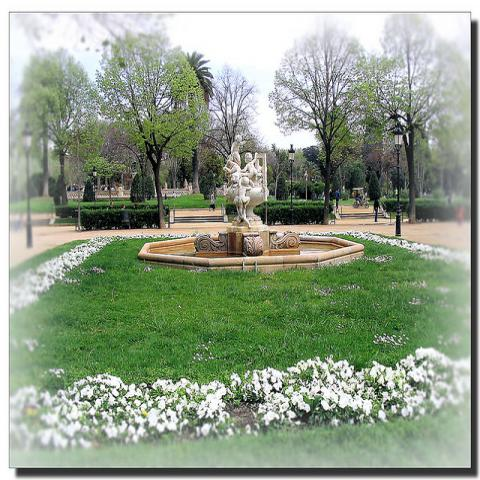motorcycle: (352, 188, 372, 208)
